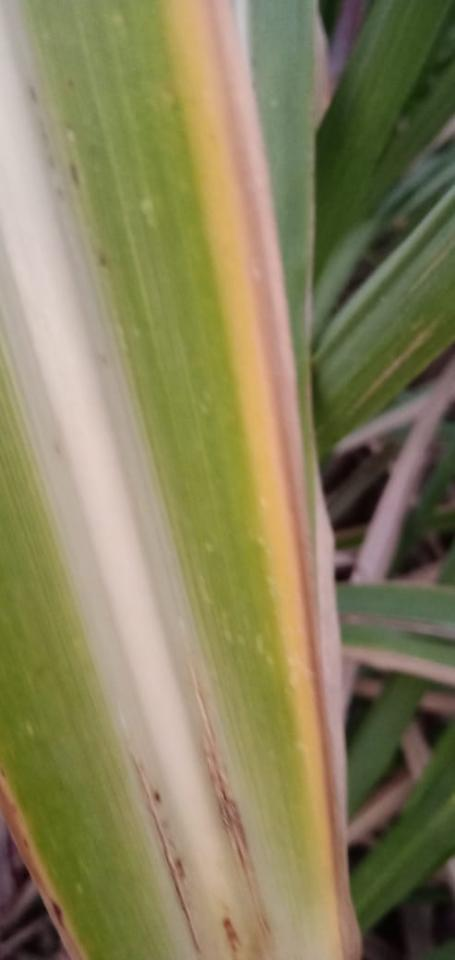RedRot: (184, 665, 274, 940), (128, 754, 204, 957), (214, 899, 245, 953)
Rust: (22, 77, 68, 206), (67, 158, 83, 190), (92, 245, 109, 270), (64, 77, 76, 91)
Yellow: (162, 0, 361, 959)
